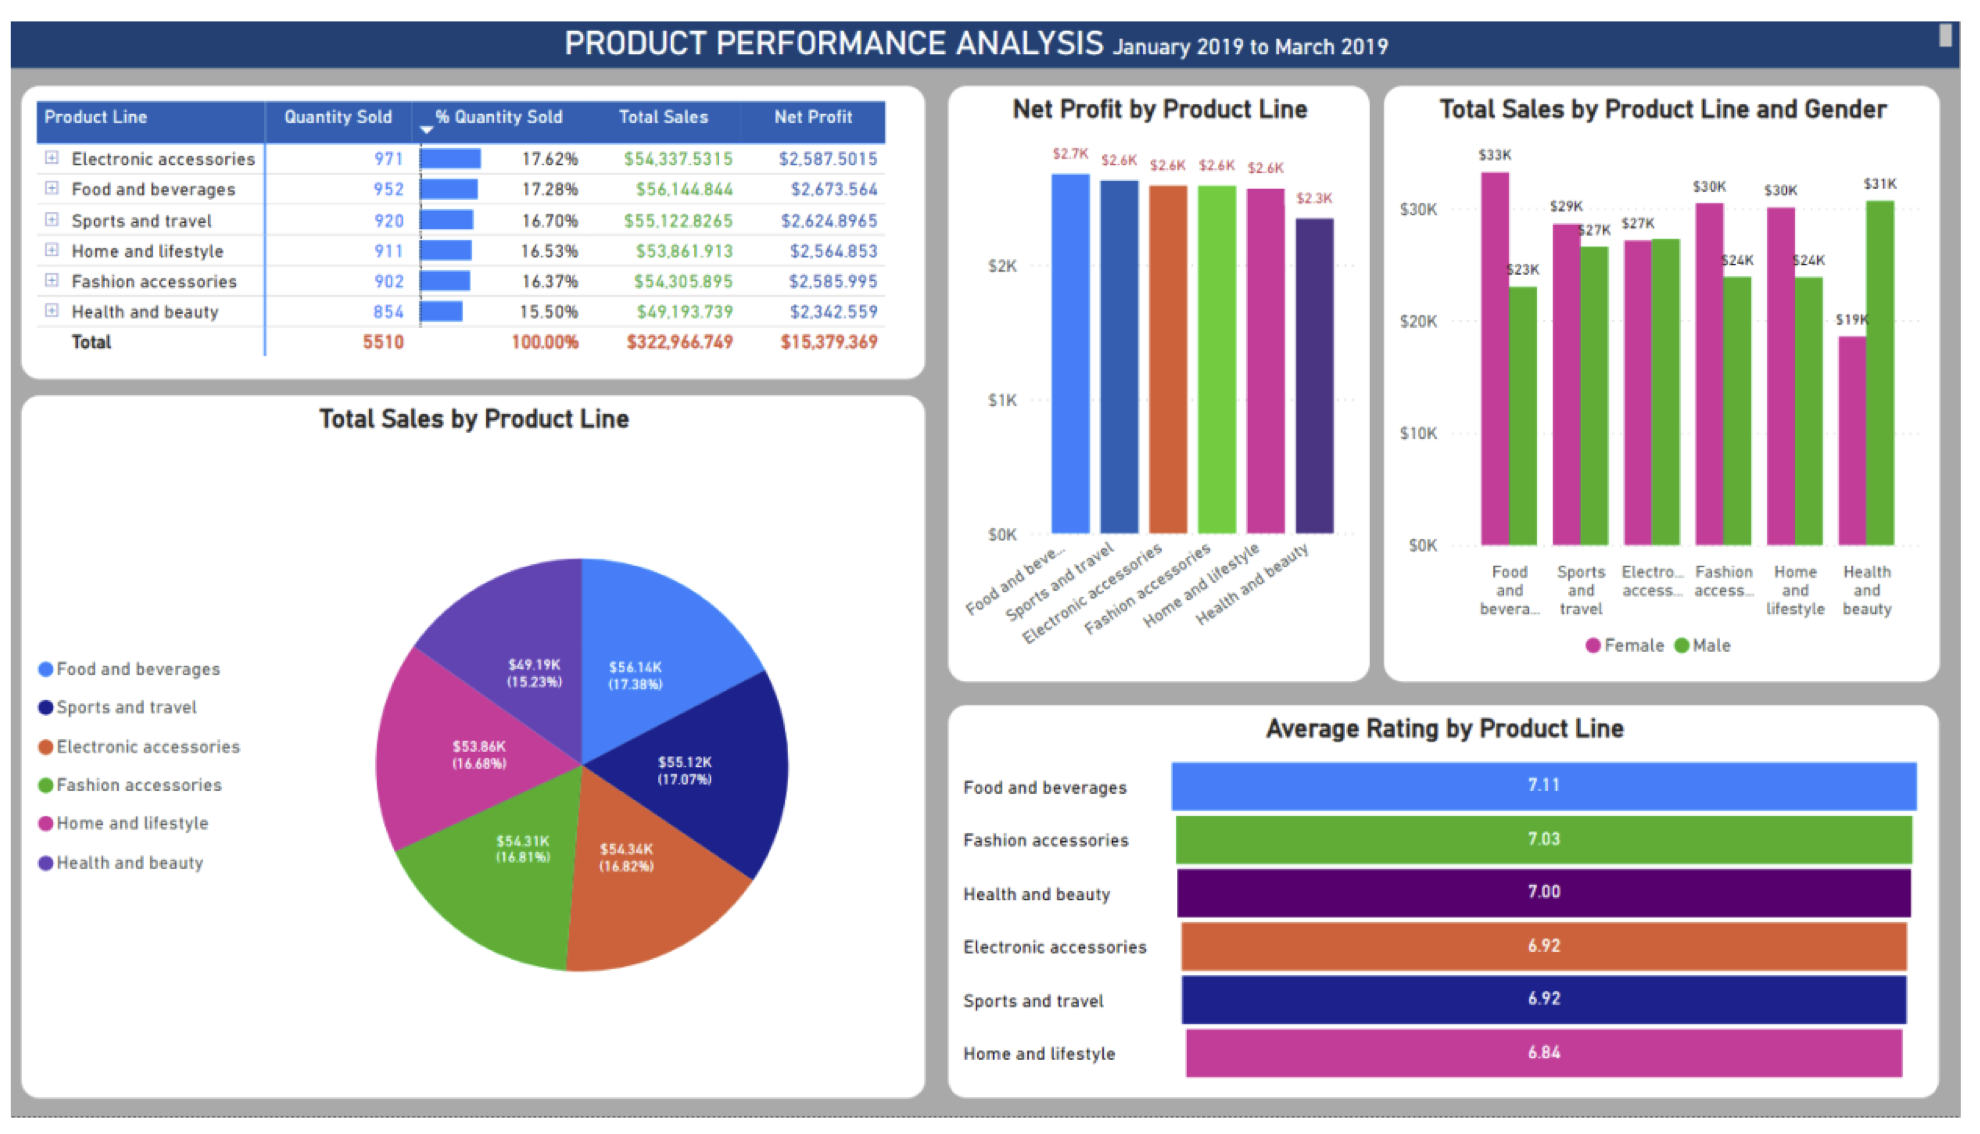

This screenshot's page, from the dashboard's own definition file:
{"tool":"powerbi","page":{"name":"Product Performance Analysis","canvas":[1280,720],"ordinal":4},"visuals":[{"type":"textbox","box":[0,0,1280,34.3],"z":0},{"type":"lineStackedColumnComboChart","fields":{"Category":["ProductLine.Product Line"],"Y":["Sales.Net Profit"]},"box":[617.6,45.7,276,389.9],"z":1000},{"type":"funnel","fields":{"Category":["ProductLine.Product Line"],"Y":["Sales.Average Rating"]},"box":[617.6,451.1,649.5,257],"z":2000},{"type":"pieChart","fields":{"Category":["ProductLine.Product Line"],"Y":["Sales.Total Sales"]},"box":[10.4,248.4,591.7,459.7],"z":3000},{"type":"clusteredColumnChart","fields":{"Category":["ProductLine.Product Line"],"Series":["Sales.Gender"],"Y":["Sales.Total Sales"]},"box":[903.1,45.7,364,389.9],"z":4000},{"type":"pivotTable","fields":{"Rows":["ProductLine.Product Line","Sales.Day Of Week"],"Values":["Sum(Sales.Quantity)","Divide(Sum(Sales.Quantity), ScopedEval(Sum(Sales.Quantity), []))","Sales.Total Sales","Sales.Net Profit"]},"box":[10.4,45.7,591.7,192.3],"z":5000}]}

Visuals, with their boxes in screenshot pixels (x1, y1, x2, y2), scaled from the page's 1280x720 canvas onto the 1980x1134 screenshot:
textbox: (0,0,1979,54)
lineStackedColumnComboChart - ProductLine.Product Line x Sales.Net Profit: (955,72,1382,686)
funnel - ProductLine.Product Line x Sales.Average Rating: (955,710,1960,1115)
pieChart - ProductLine.Product Line x Sales.Total Sales: (16,391,931,1115)
clusteredColumnChart - ProductLine.Product Line x Sales.Gender: (1397,72,1960,686)
pivotTable - ProductLine.Product Line x Sales.Day Of Week: (16,72,931,375)
